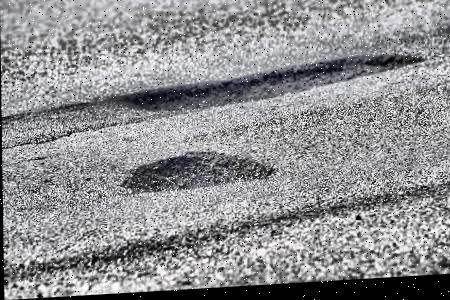pothole: (114, 55, 425, 118), (119, 149, 276, 200)
